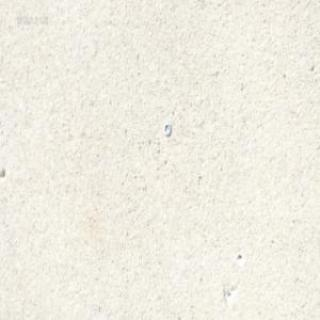Washertrack_idkeyframe: (162, 120, 170, 135)
